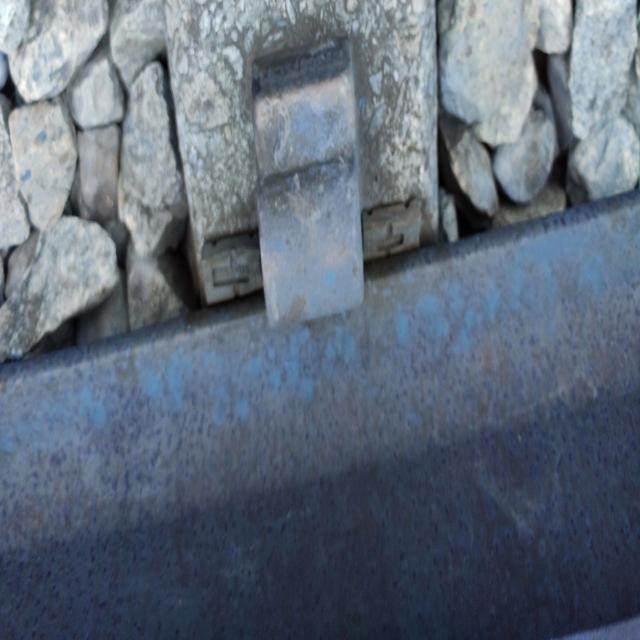Missing Fastener: (252, 38, 423, 327)
